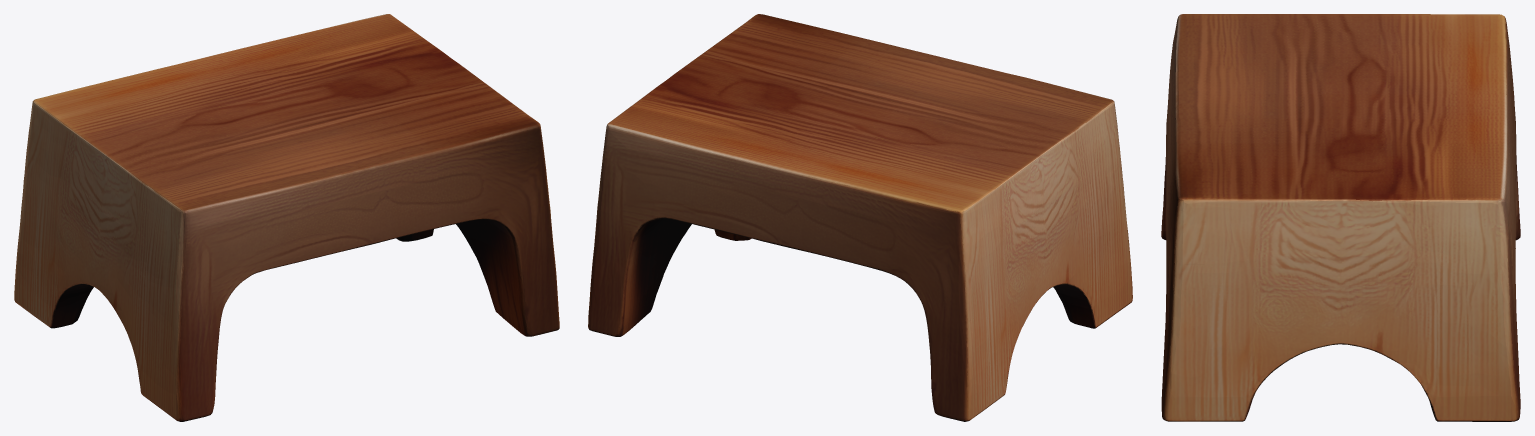
File: wooden-step-stool-3d.jpeg.glb
3 renders of one model, left to right at view 1: azimuth 30°, elevation 25°; view 2: azimuth 150°, elevation 25°; view 3: azimuth 270°, elevation 25°, orthographic. The views are drawn at different scales.
Visible parts, largest first — view 1: world; view 2: world; view 3: world.
Boxes of the visible parts, x1,y1,x2,y2 form: world: [14, 14, 559, 421]; world: [588, 14, 1132, 421]; world: [1161, 14, 1520, 421].
Bounding box in the file's own units: 1 × 0.5127 × 0.7663.
Materials: 1 (1 with a texture image).
